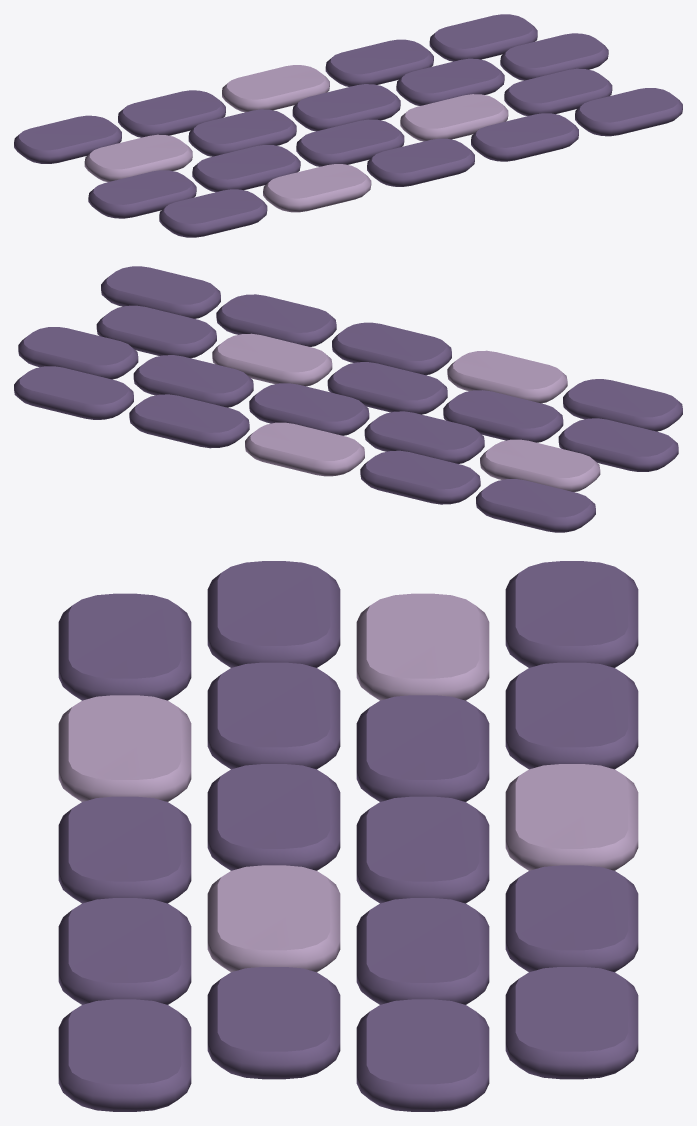
The model's file is paving_4.glb.
3 views of the same model, one above another, from view 1: azimuth 30°, elevation 25°; view 2: azimuth 150°, elevation 25°; view 3: azimuth 270°, elevation 25° (orthographic). The views are drawn at different scales.
Visible parts, largest first — view 1: Paving; view 2: Paving; view 3: Paving.
Boxes of the visible parts, box(x1,y1,x2,y2) form: Paving: box(14, 14, 682, 237); Paving: box(14, 266, 682, 532); Paving: box(58, 561, 638, 1111).
Size of the model in its own units: 4.56 by 0.11 by 2.1.
